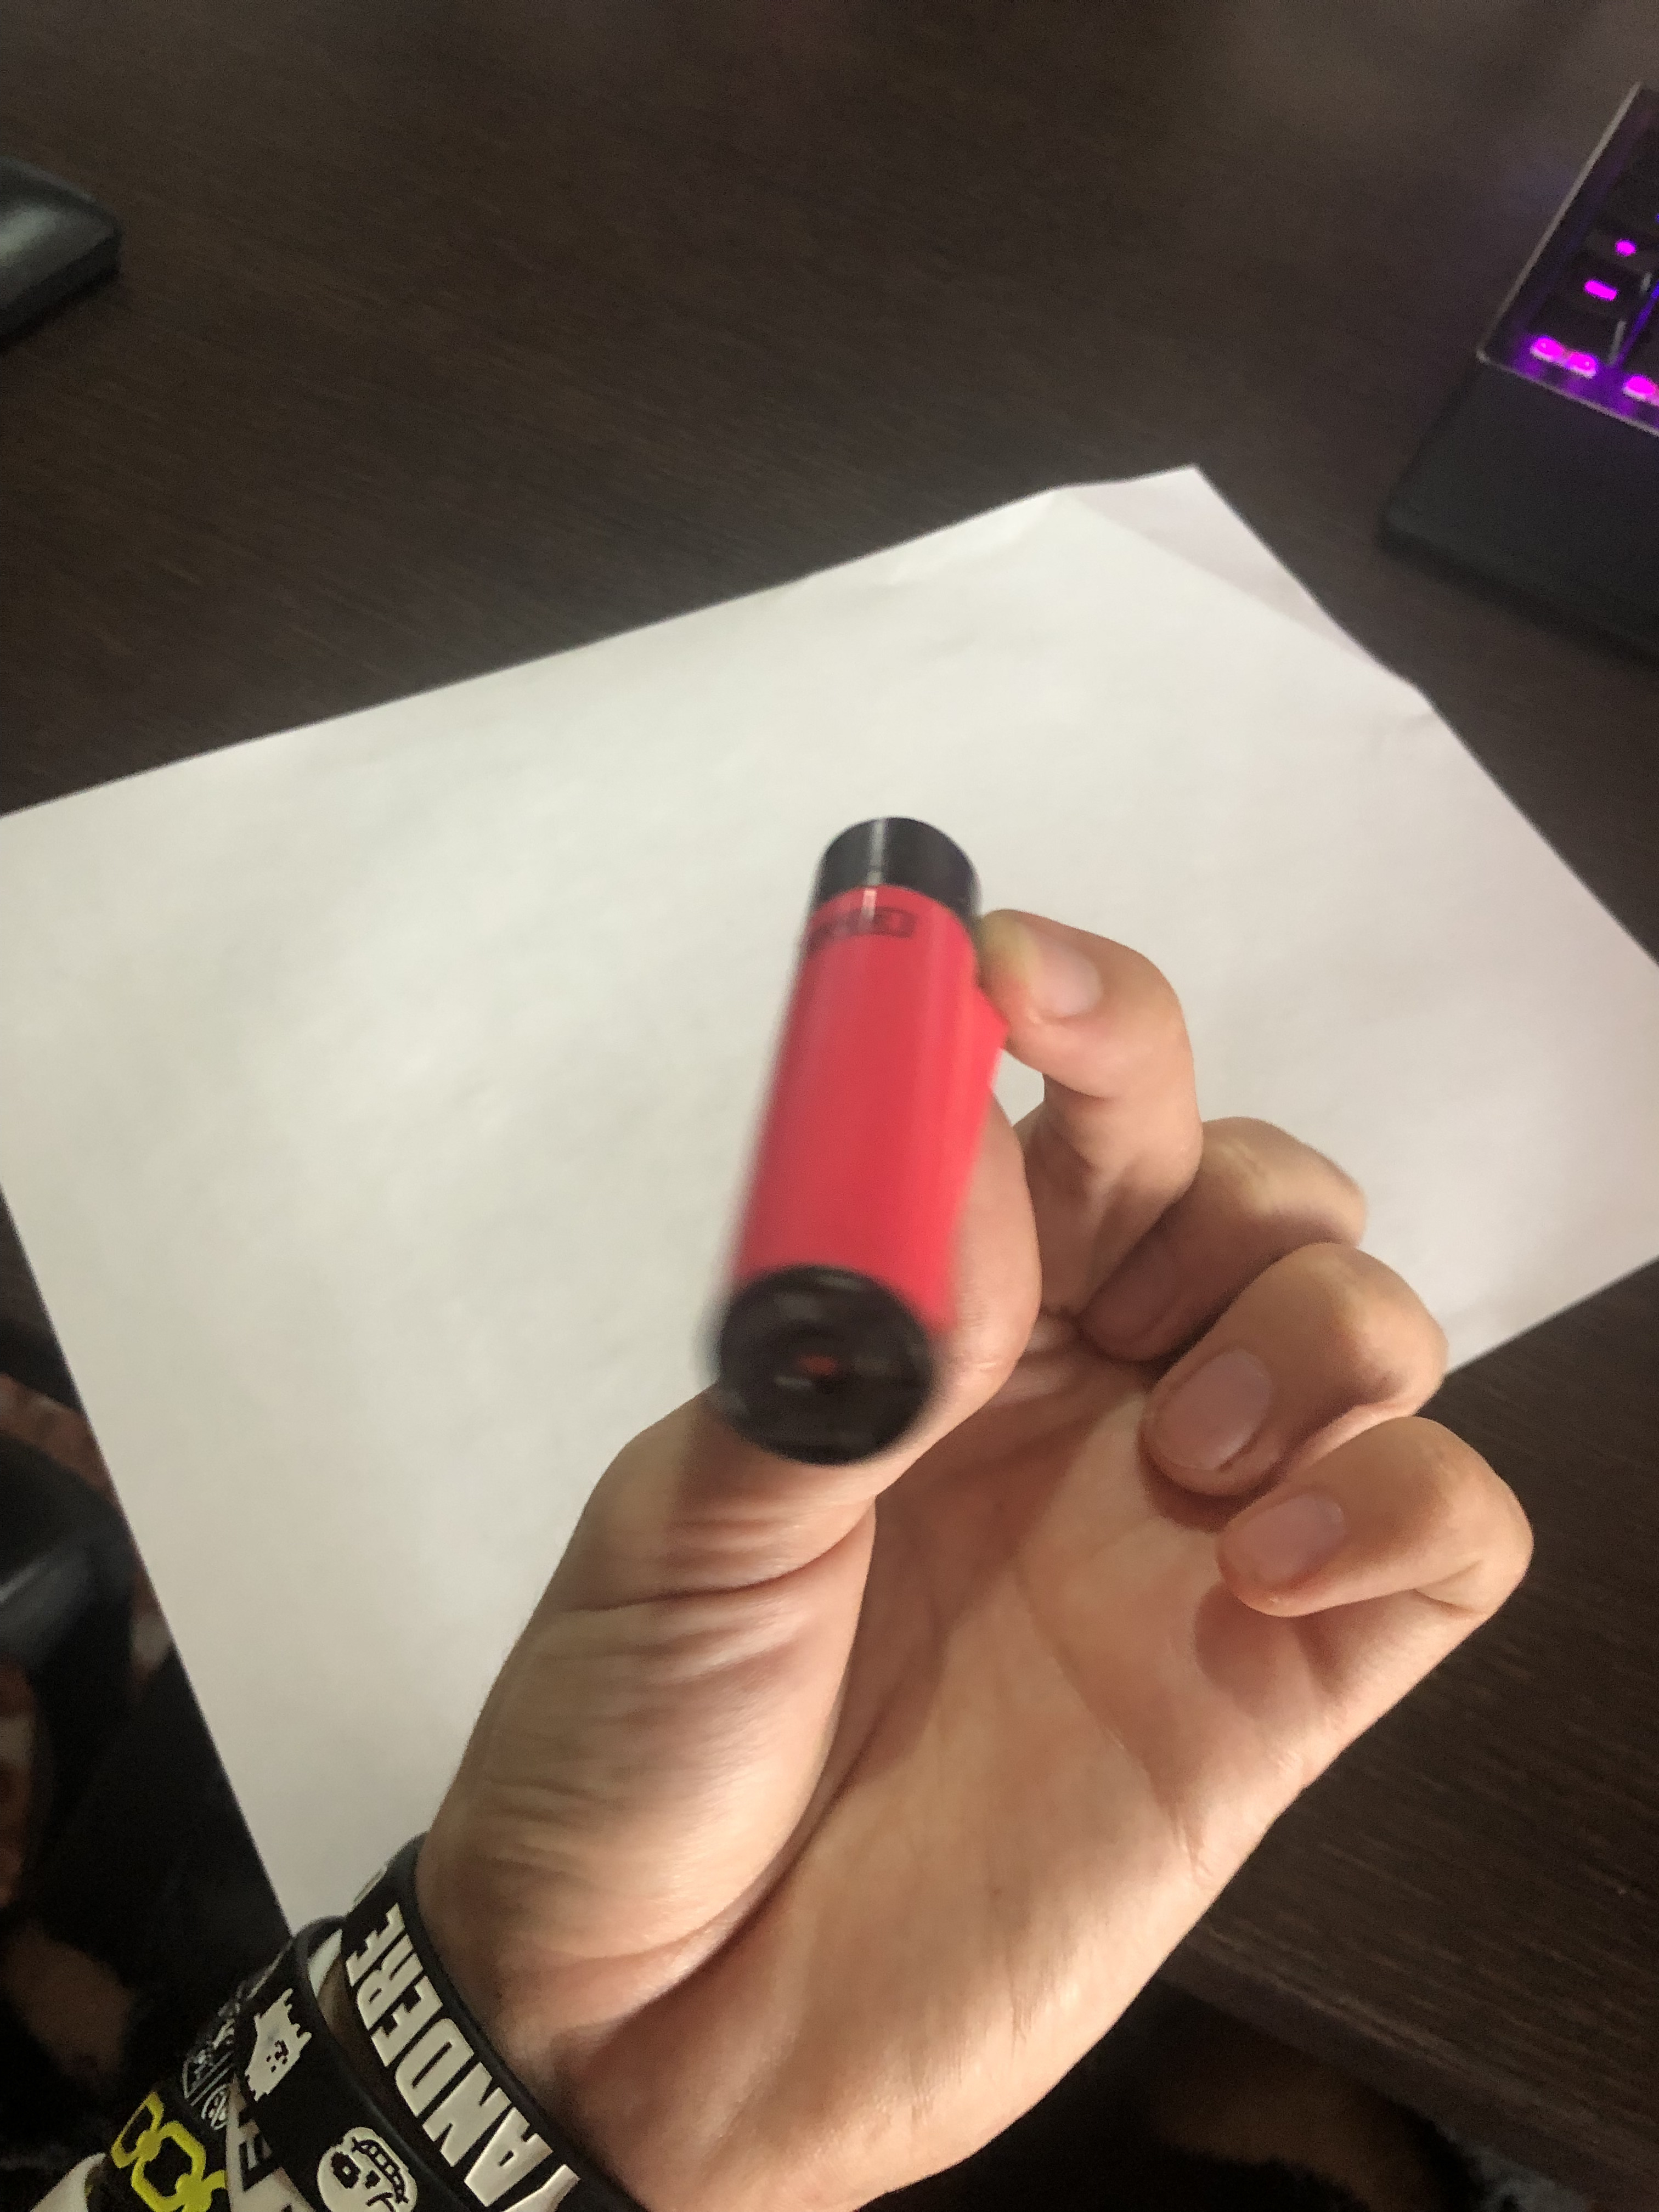Mechero: (706, 820, 1006, 1442)
